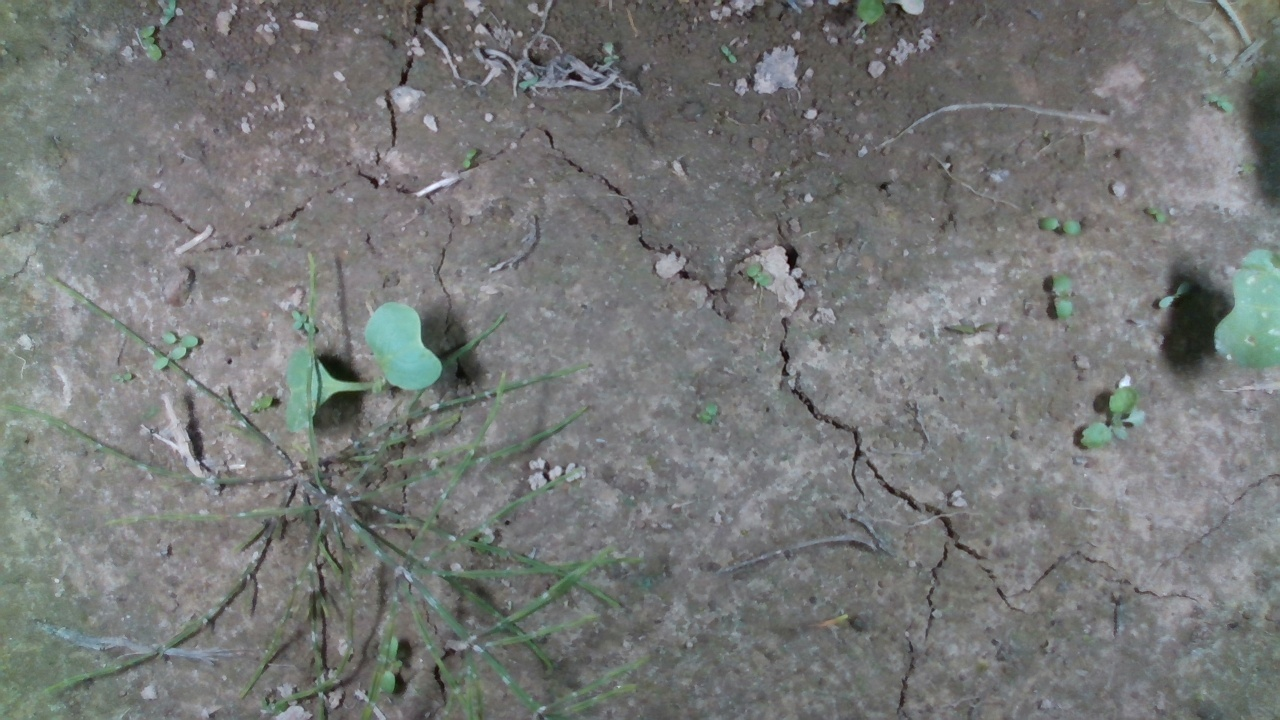weed: (1077, 384, 1148, 452), (1049, 271, 1075, 321), (1155, 278, 1193, 311), (136, 25, 164, 61), (1037, 216, 1082, 238), (744, 261, 775, 287), (1202, 90, 1235, 114), (693, 401, 720, 424), (459, 144, 479, 170), (1144, 206, 1168, 225), (719, 43, 738, 65)
